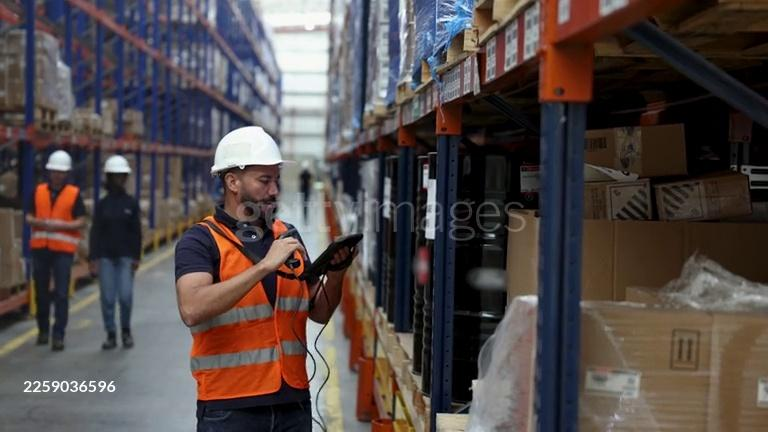helmet: (209, 126, 286, 178), (45, 150, 74, 171), (104, 156, 132, 174)
person: (174, 125, 358, 428), (23, 148, 91, 353), (85, 156, 144, 351)
